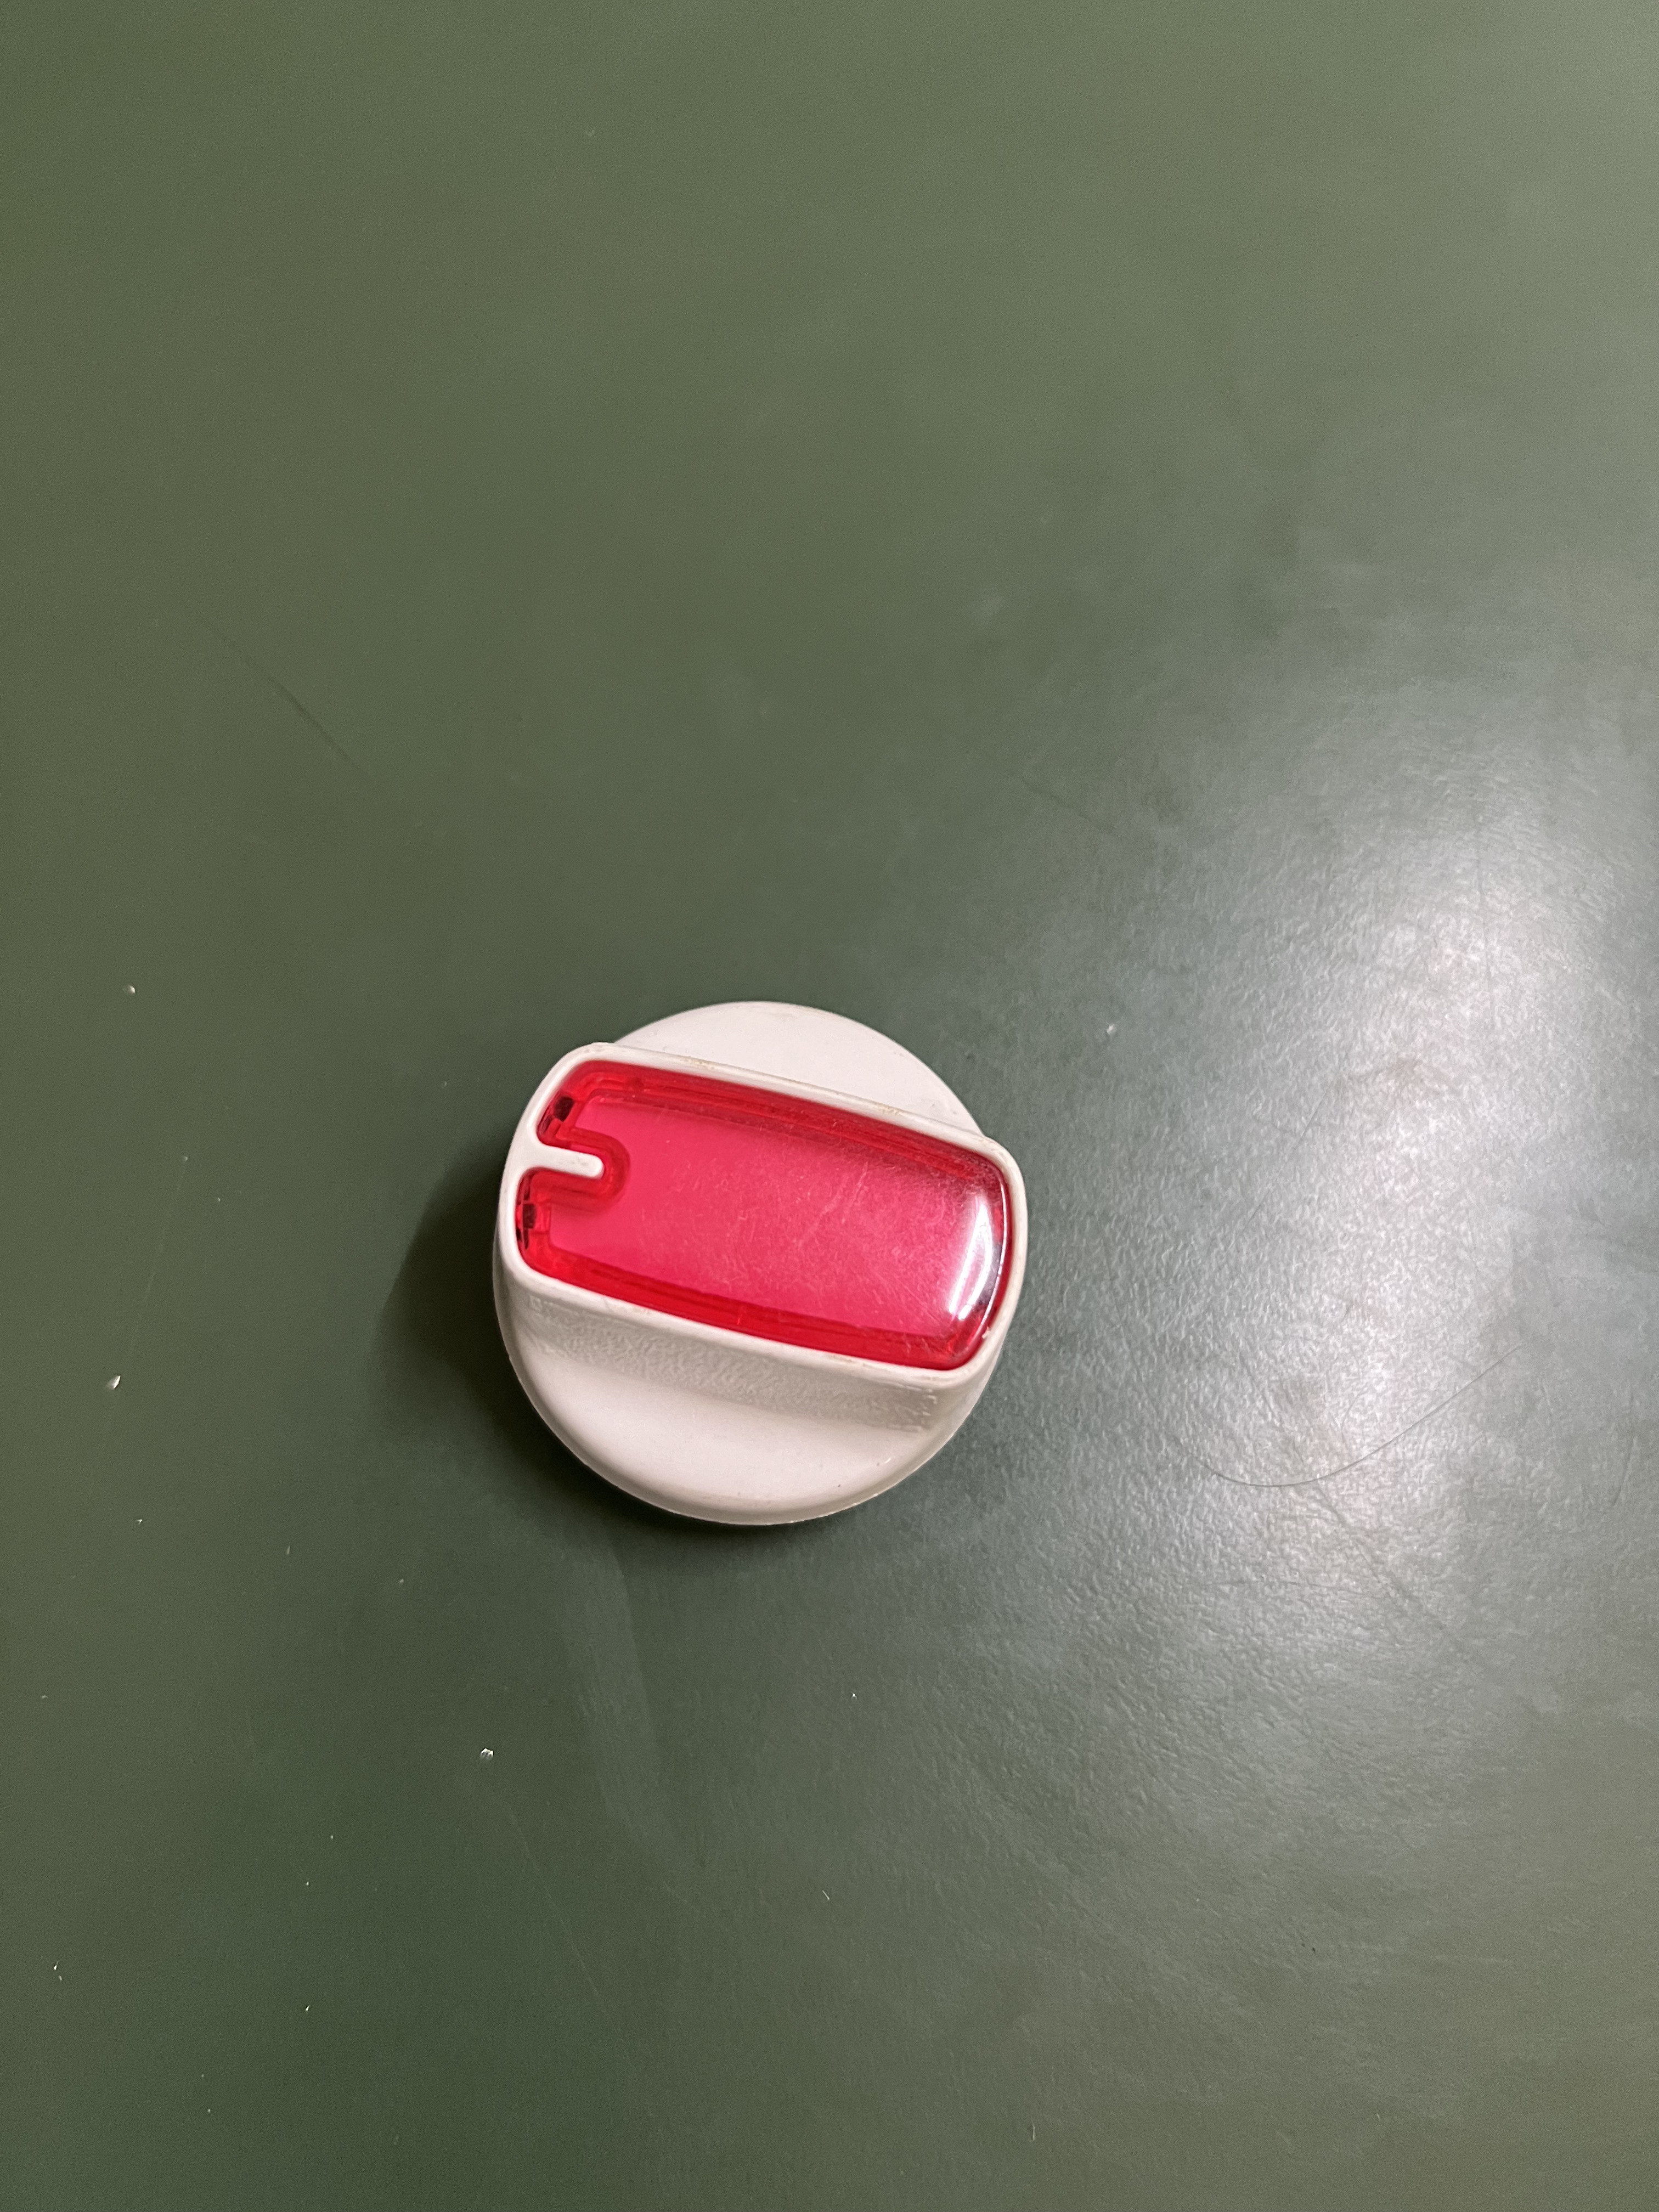regulator: (429, 984, 1039, 1510)
